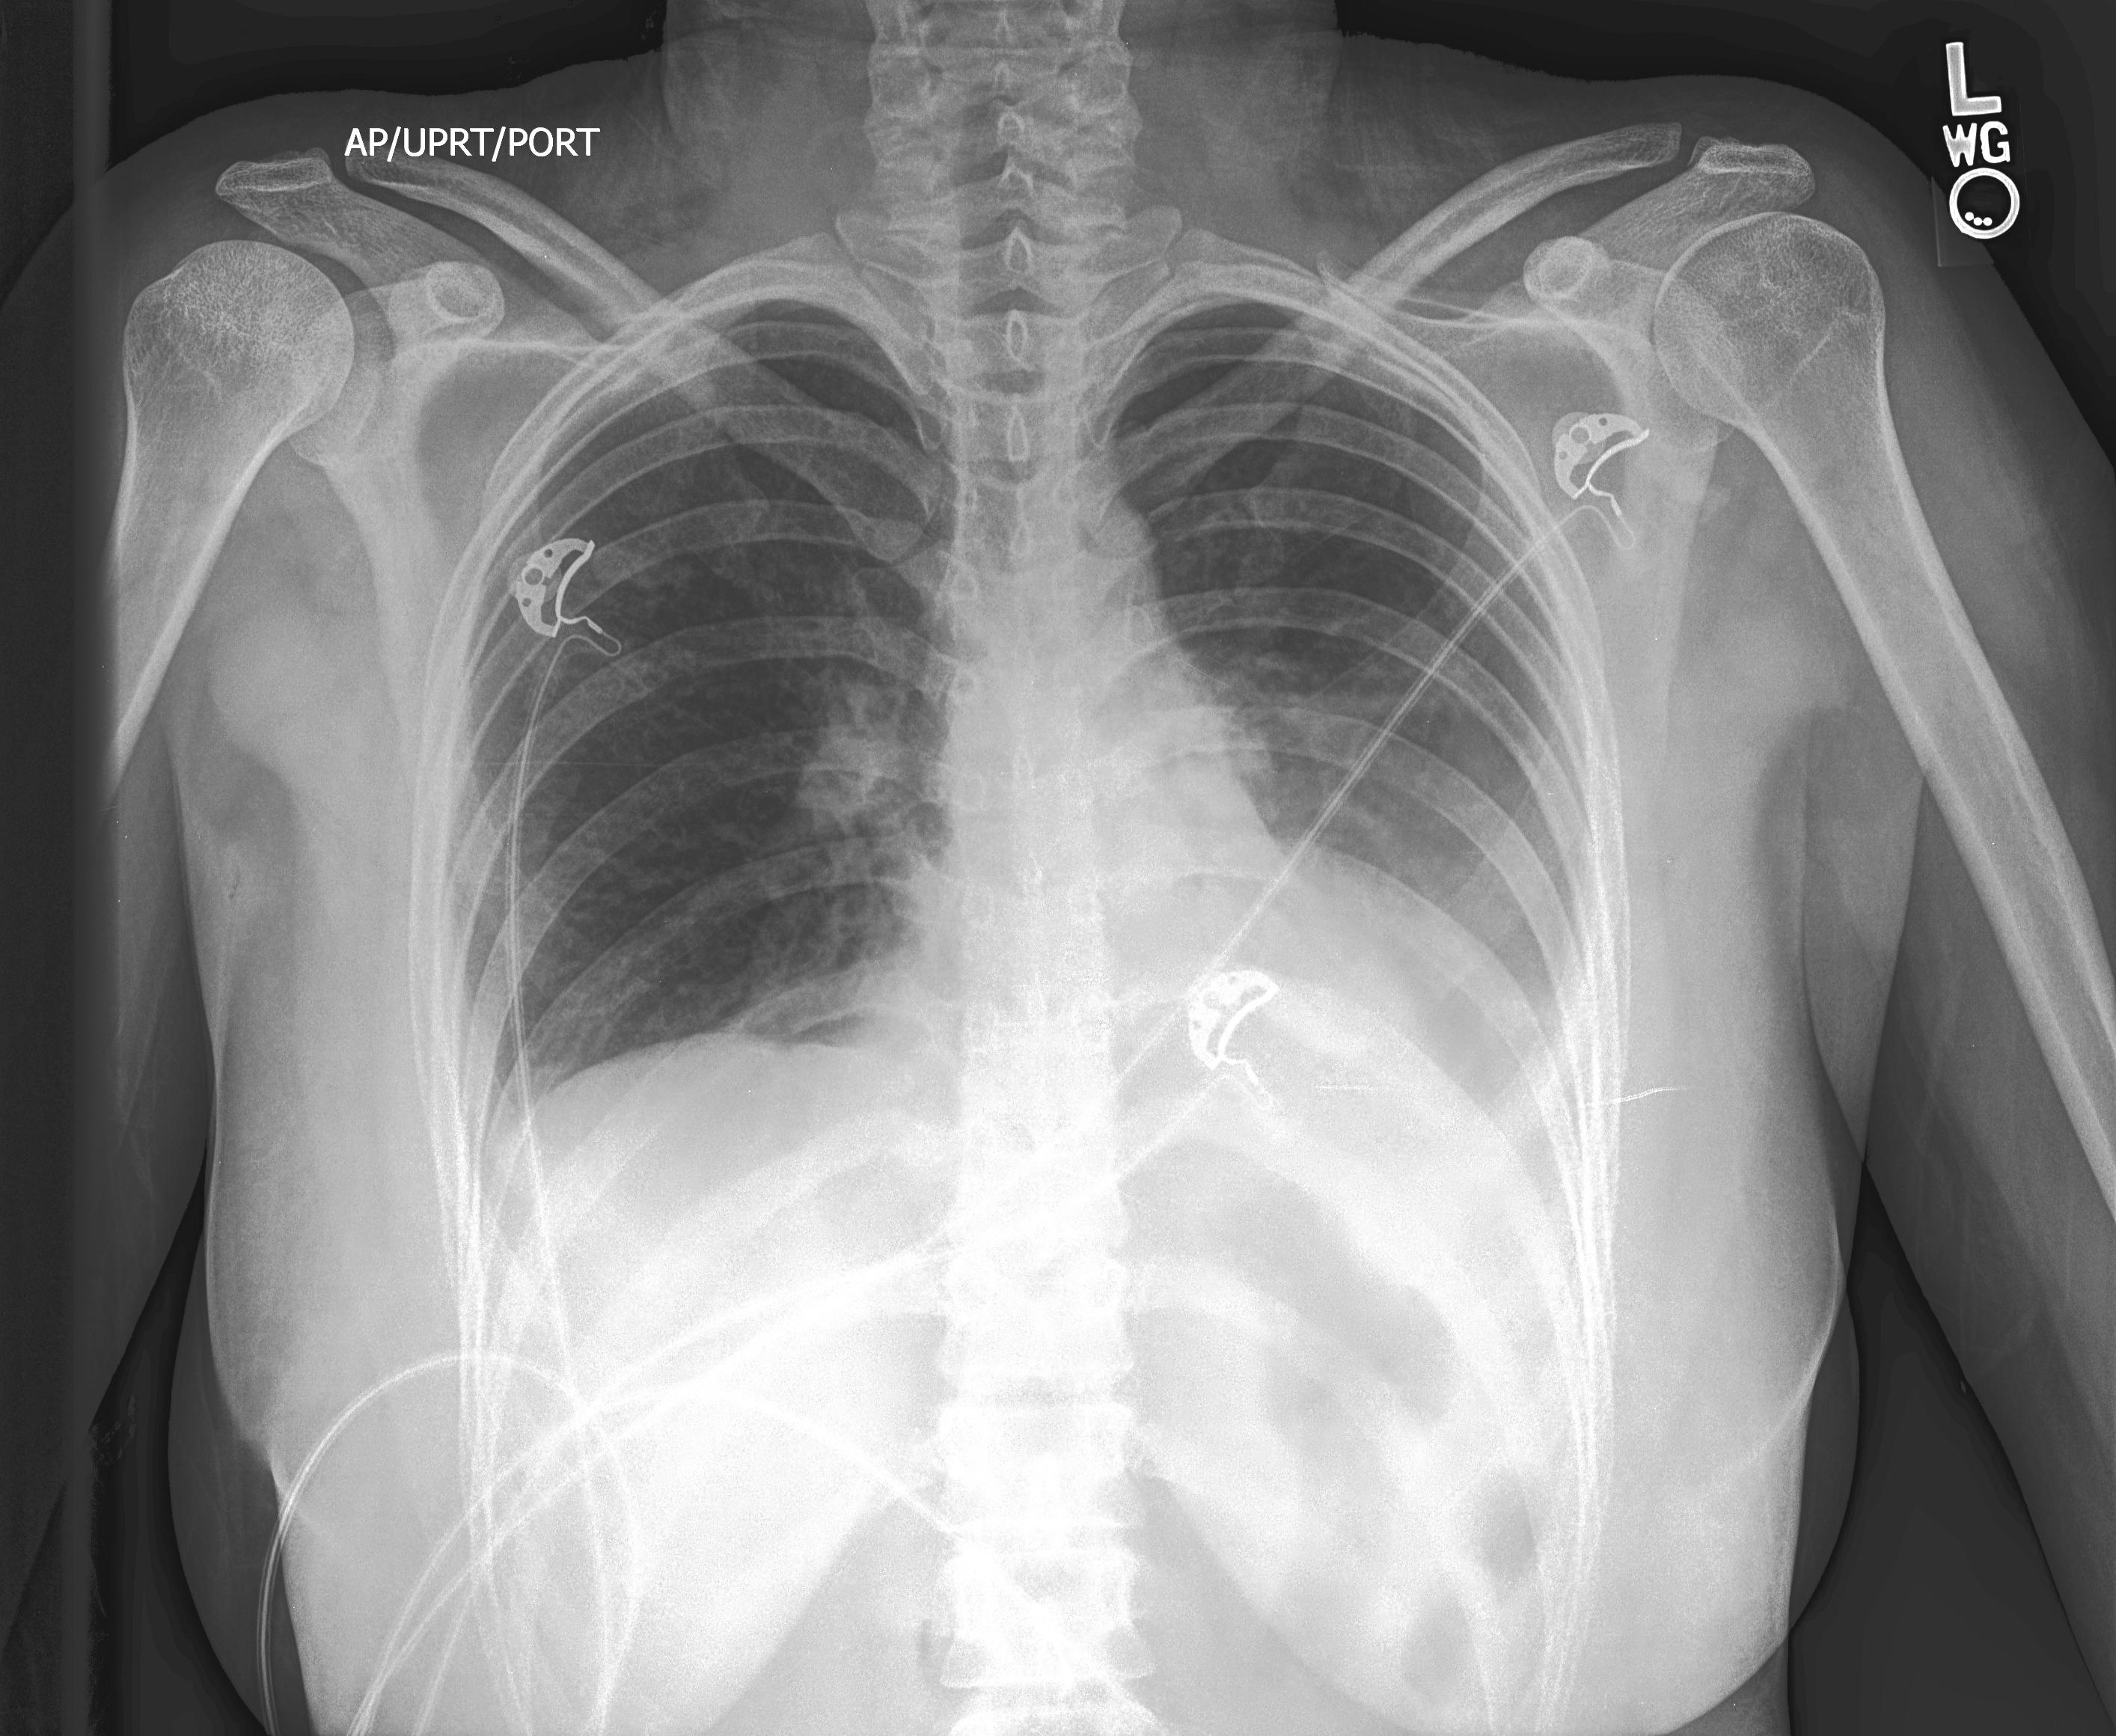Pleural Effusion: (1337, 921, 1656, 1246)
